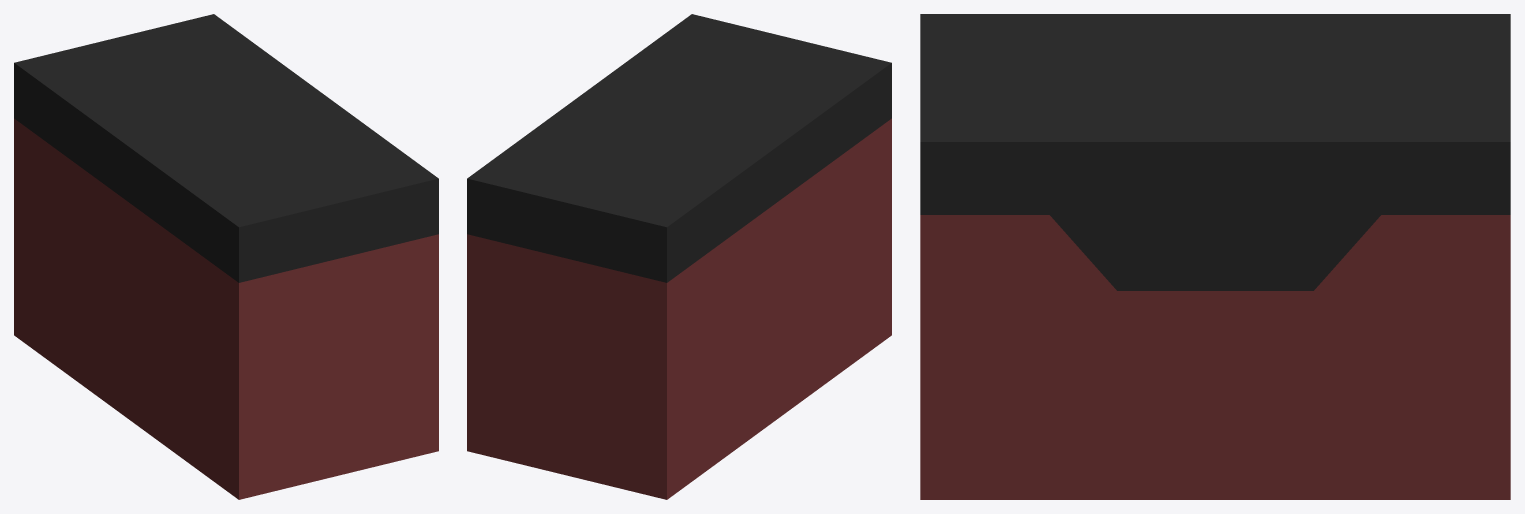
File: Nails.fbx
The picture shows the model from 3 angles, left to right: view 1: azimuth 30°, elevation 25°; view 2: azimuth 150°, elevation 25°; view 3: azimuth 270°, elevation 25°; orthographic projection. The views are drawn at different scales.
Parts seen in each view (by area): view 1: Cube.002; view 2: Cube.002; view 3: Cube.002.
Boxes of the visible parts, left/top/right/bottom form: Cube.002: left=14, top=14, right=438, bottom=499; Cube.002: left=467, top=14, right=891, bottom=499; Cube.002: left=920, top=14, right=1510, bottom=499.
Size of the model in its own units: 174 by 227 by 339.
